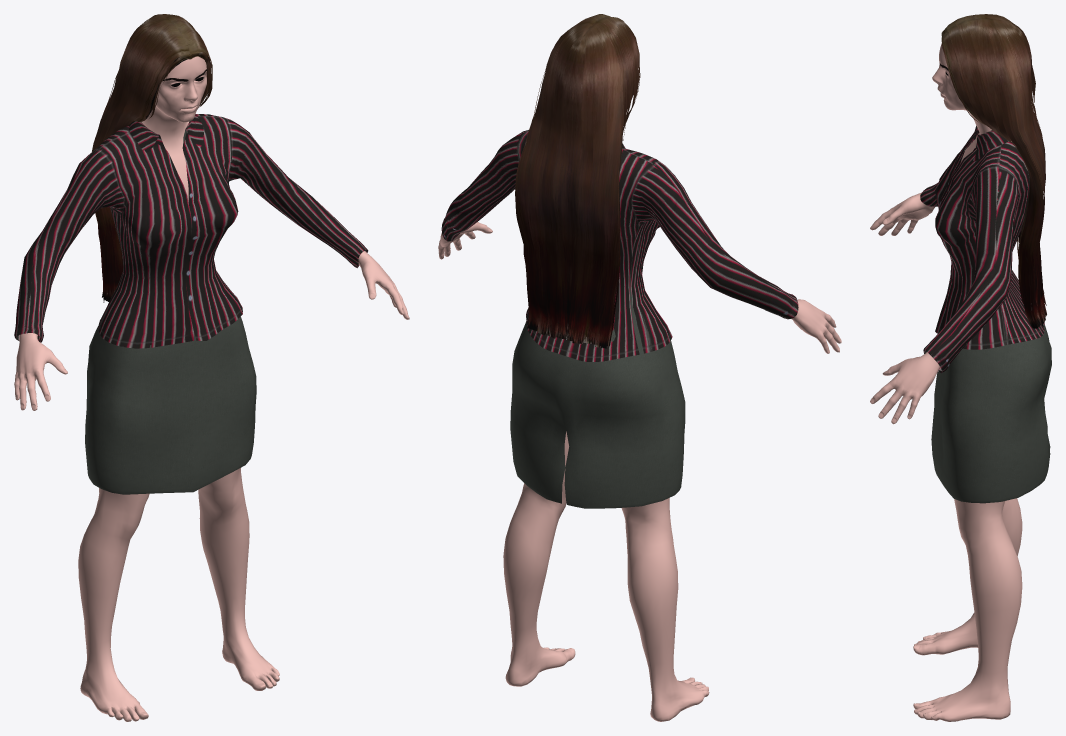
The model's file is female.glb.
3 views of the same model, side by side, from view 1: azimuth 30°, elevation 25°; view 2: azimuth 150°, elevation 25°; view 3: azimuth 270°, elevation 25° (orthographic). The views are drawn at different scales.
Visible parts, largest first — view 1: female_elegantsuit01Mesh, femaleMesh, long01Mesh; view 2: female_elegantsuit01Mesh, long01Mesh, femaleMesh; view 3: female_elegantsuit01Mesh, femaleMesh, long01Mesh.
Part boxes in pixels (x1=…): female_elegantsuit01Mesh: x1=14, y1=114, x2=368, y2=494; femaleMesh: x1=14, y1=56, x2=409, y2=721; long01Mesh: x1=92, y1=14, x2=212, y2=302; female_elegantsuit01Mesh: x1=441, y1=130, x2=798, y2=508; long01Mesh: x1=515, y1=14, x2=640, y2=348; femaleMesh: x1=438, y1=222, x2=841, y2=721; female_elegantsuit01Mesh: x1=920, y1=125, x2=1051, y2=503; femaleMesh: x1=870, y1=43, x2=1022, y2=721; long01Mesh: x1=941, y1=14, x2=1046, y2=329.
Bounding box in the file's own units: 0.9378 × 1.54 × 0.3806.
Materials: 6 (4 with a texture image).
